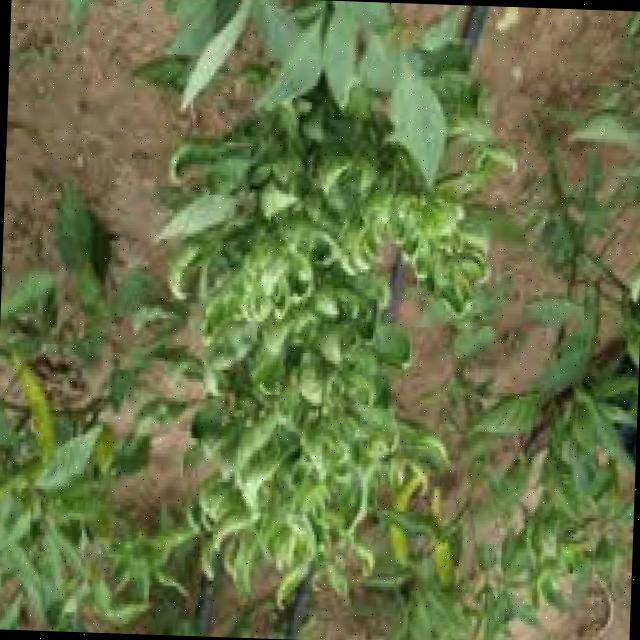leaf curl: (146, 170, 479, 576)
